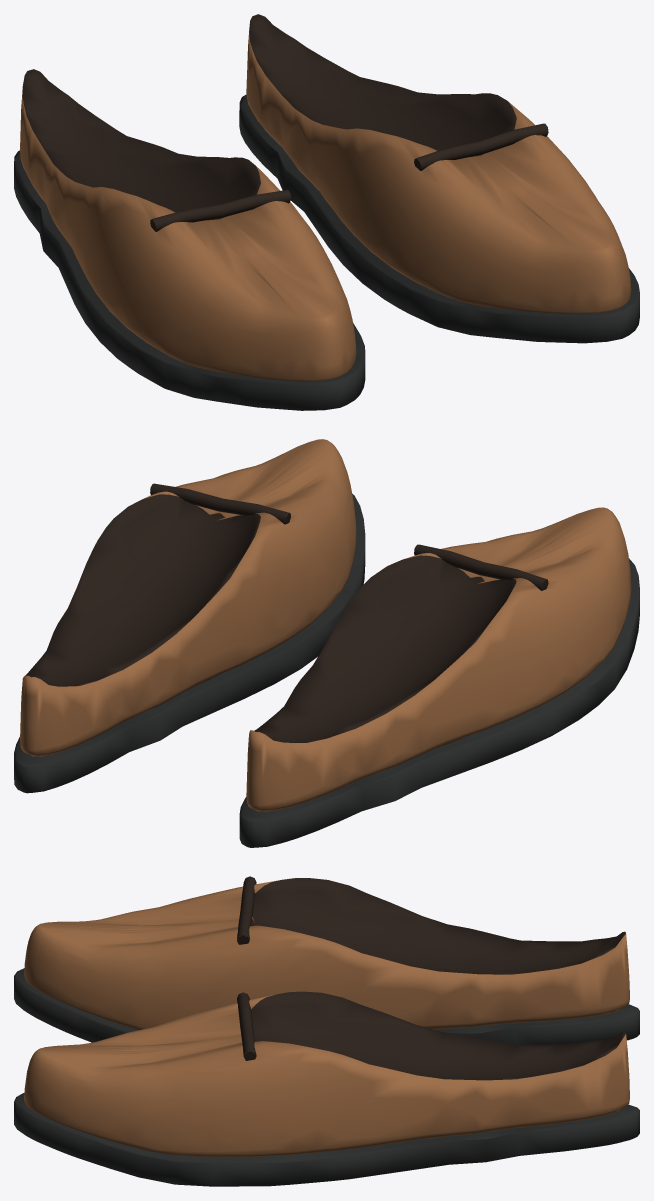
File: shoes-loafer-balanced-6fcf82e21b.glb
3 views of the same model, one above another, from view 1: azimuth 30°, elevation 25°; view 2: azimuth 150°, elevation 25°; view 3: azimuth 270°, elevation 25° (orthographic). The views are drawn at different scales.
Visible parts, largest first — view 1: shoes-loafer; view 2: shoes-loafer; view 3: shoes-loafer.
Boxes of the visible parts, x1,y1,x2,y2 form: shoes-loafer: [14, 14, 639, 410]; shoes-loafer: [14, 439, 639, 847]; shoes-loafer: [14, 876, 639, 1186].
Bounding box in the file's own units: 0.2116 × 0.0594 × 0.2724.
